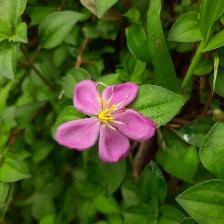malabar melastome: (55, 76, 161, 166)
